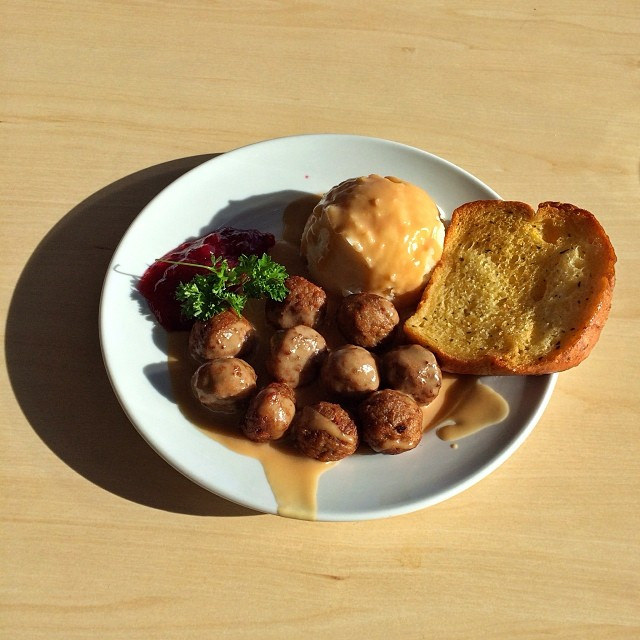boiled potatoes: (294, 179, 443, 288)
meatballs: (180, 278, 442, 461)
slice of bread: (434, 203, 611, 381)
